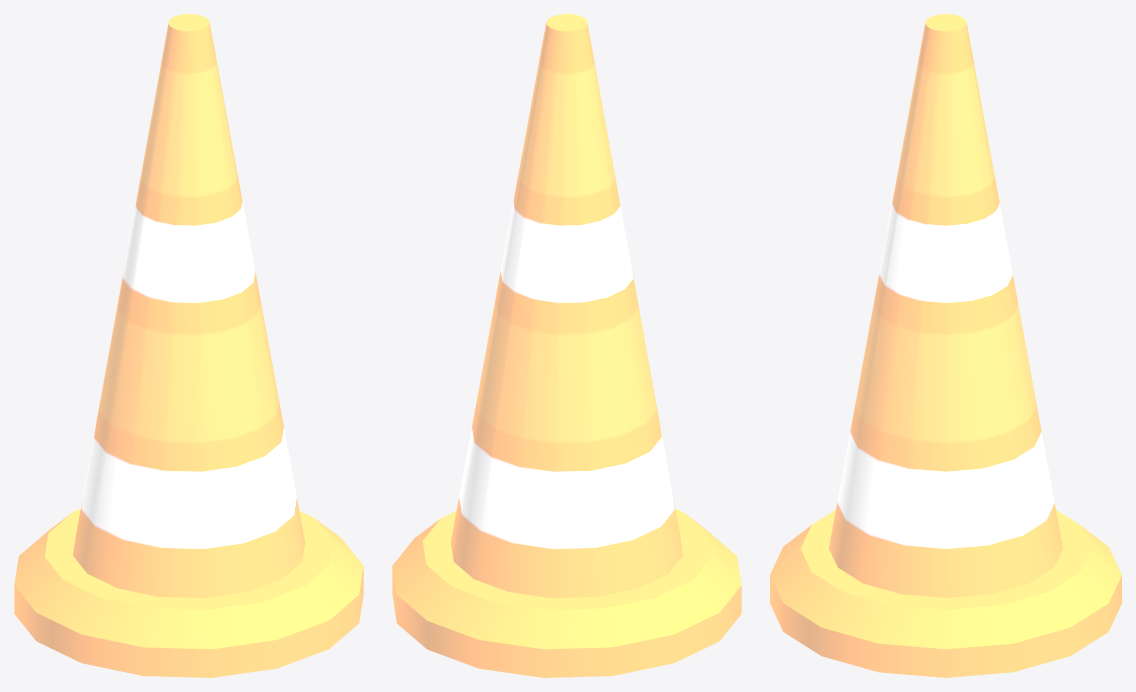
3 views of the same model, side by side, from view 1: azimuth 30°, elevation 25°; view 2: azimuth 150°, elevation 25°; view 3: azimuth 270°, elevation 25° (orthographic).
Parts seen in each view (by area): view 1: Cylinder.001; view 2: Cylinder.001; view 3: Cylinder.001.
Part boxes in pixels (box(x1,y1,x2,y2)): Cylinder.001: box(14, 14, 363, 677); Cylinder.001: box(392, 14, 741, 677); Cylinder.001: box(770, 14, 1121, 677).
Size of the model in its own units: 0.5826 by 1.06 by 0.5826.
1 material, 1 textured.
